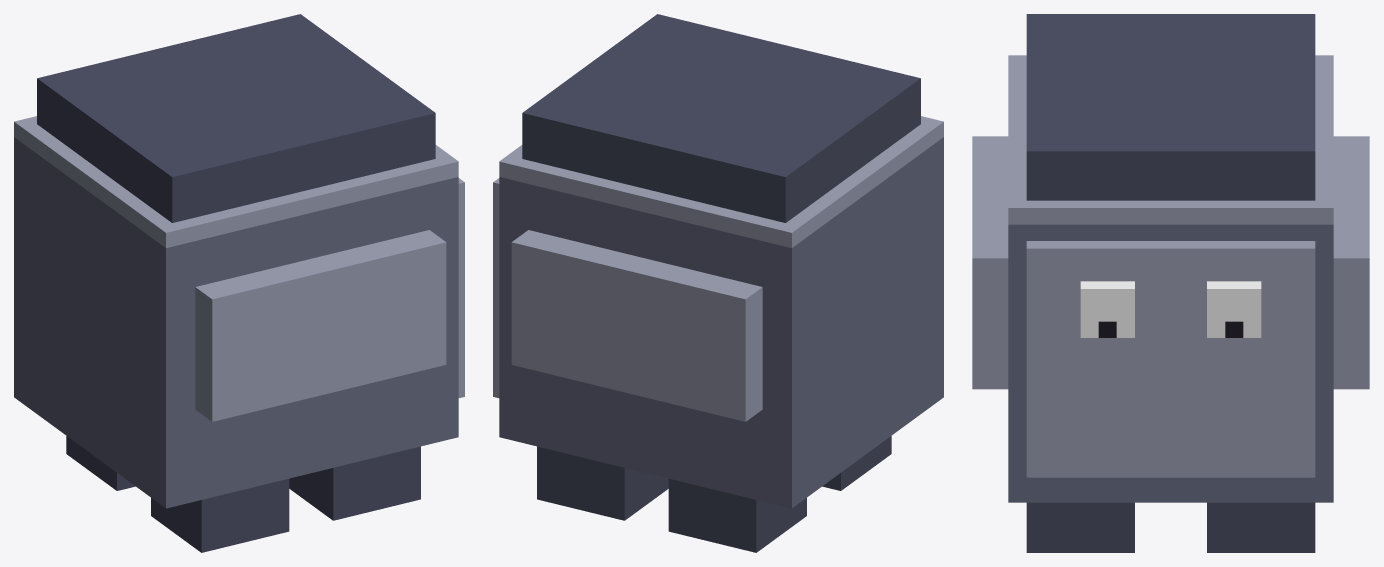
File: enemy_brute.glb
The picture shows the model from 3 angles, left to right: view 1: azimuth 30°, elevation 25°; view 2: azimuth 150°, elevation 25°; view 3: azimuth 270°, elevation 25°; orthographic projection. The views are drawn at different scales.
Visible parts, largest first — view 1: model_0; view 2: model_0; view 3: model_0.
Boxes of the visible parts, x1,y1,x2,y2 form: model_0: (14,14,464,552); model_0: (493,14,943,552); model_0: (972,14,1369,552).
Bounding box in the file's own units: 0.88 × 1 × 0.88.
